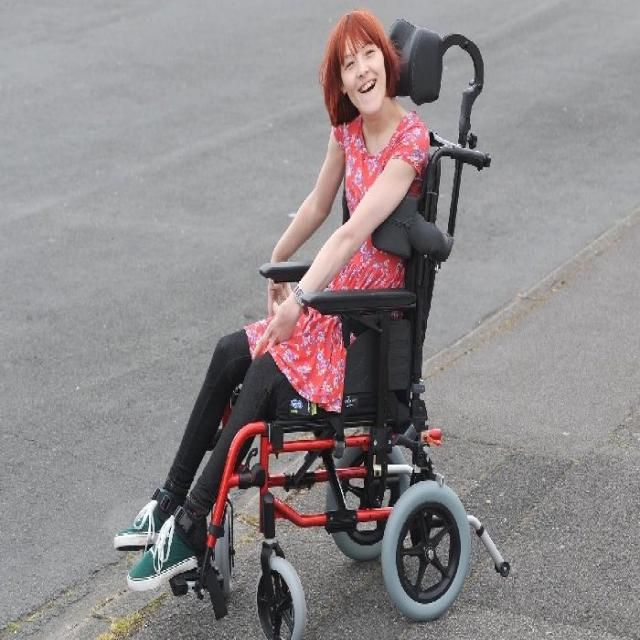wheelchairs: (168, 124, 515, 634)
